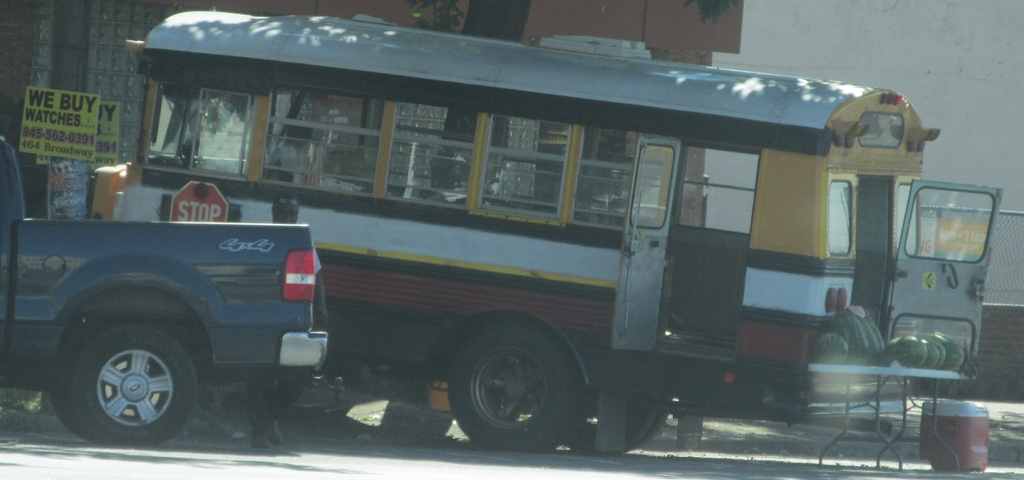Bus: (84, 8, 1004, 451)
